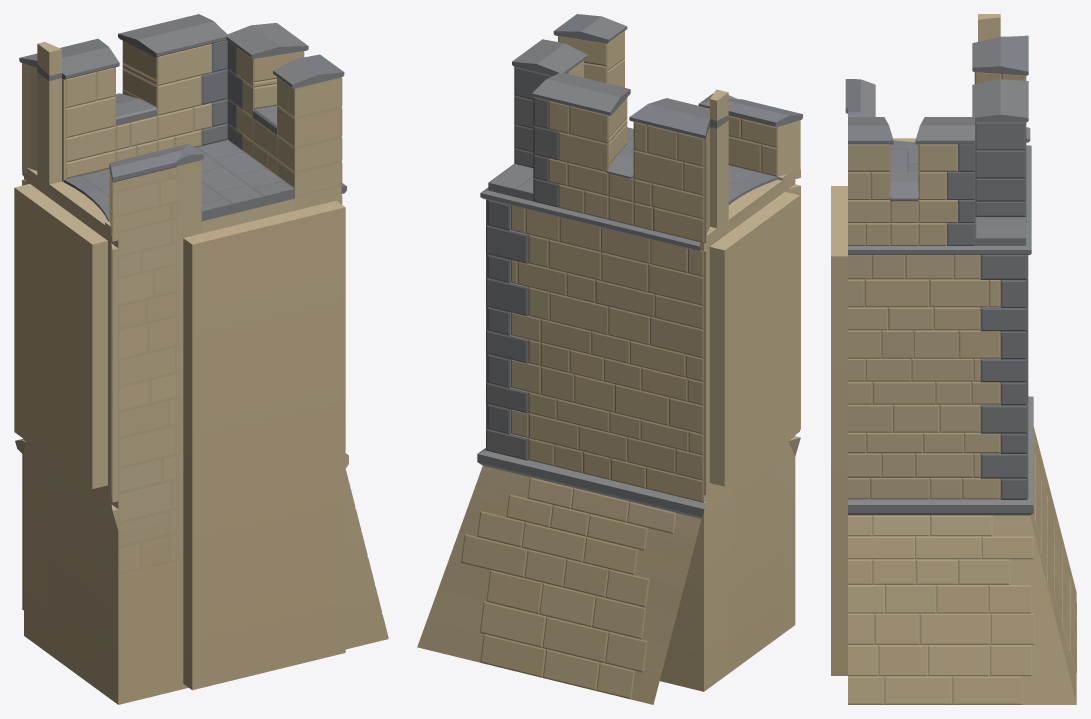
The picture shows the model from 3 angles, left to right: view 1: azimuth 30°, elevation 25°; view 2: azimuth 150°, elevation 25°; view 3: azimuth 270°, elevation 25°; orthographic projection. The views are drawn at different scales.
Visible parts, largest first — view 1: Mesh_Limestone, Mesh_Granite; view 2: Mesh_Limestone, Mesh_Granite; view 3: Mesh_Limestone, Mesh_Granite.
Boxes of the visible parts, box(x1,y1,x2,y2) form: Mesh_Limestone: box(14, 41, 388, 704); Mesh_Granite: box(16, 14, 348, 455); Mesh_Limestone: box(417, 31, 800, 704); Mesh_Granite: box(477, 14, 802, 518); Mesh_Limestone: box(831, 14, 1076, 704); Mesh_Granite: box(845, 35, 1033, 515).
Bounding box in the file's own units: 5.5 × 11.08 × 4.35.
